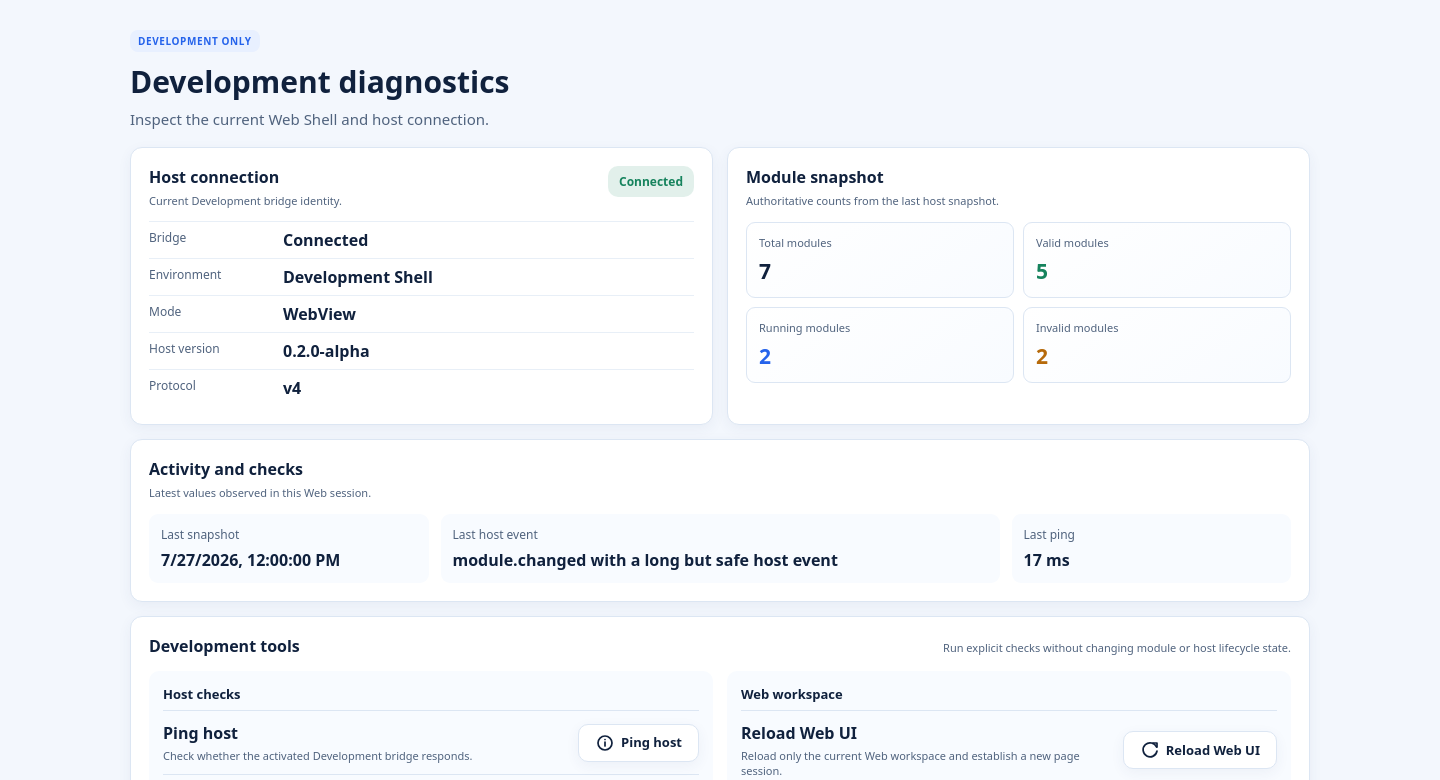
it: Development diagnostics workspace › uses a safe ping failure and preserves old latency
Click the button "Ping host".
click(638, 743)  # box [578,724,699,762]
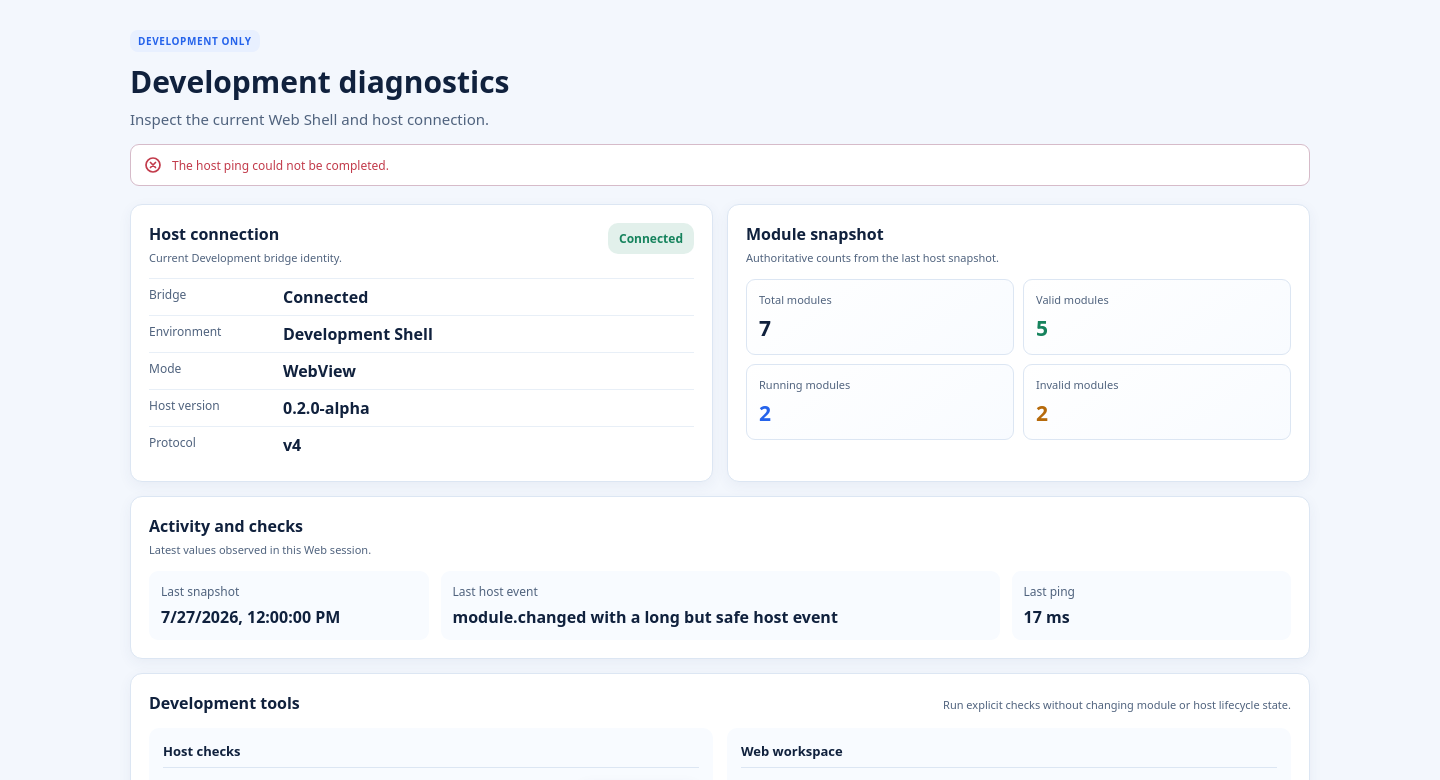
Expected: the text "The host ping could not be completed." is shown, [172,156,389,174]
